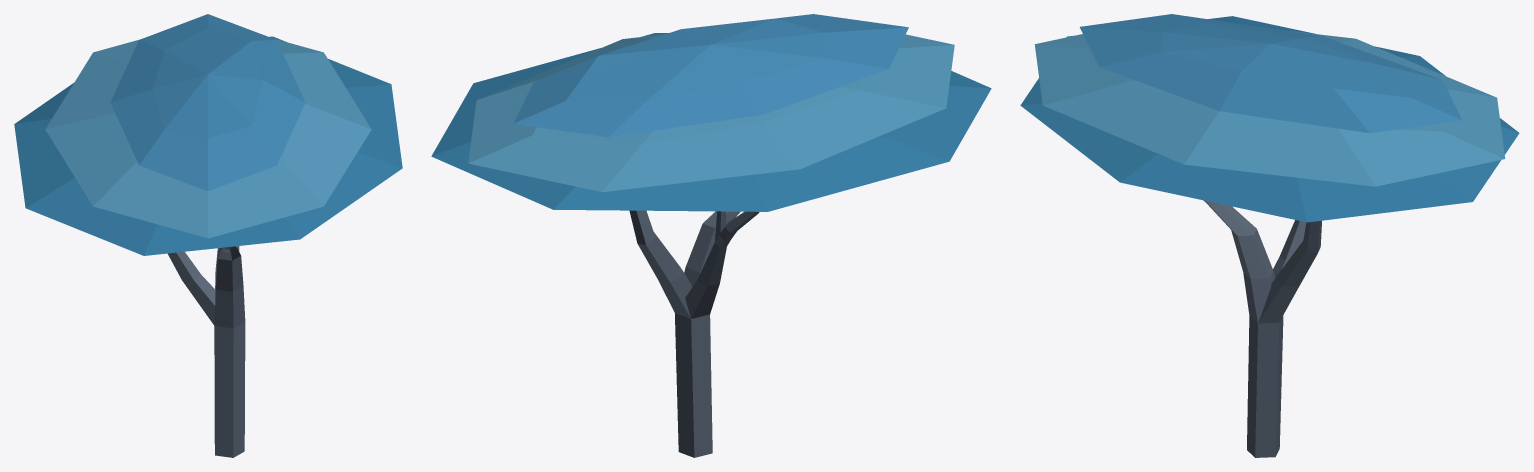
Rendered from alien_tree_textured.glb.
3 renders of one model, left to right at view 1: azimuth 30°, elevation 25°; view 2: azimuth 150°, elevation 25°; view 3: azimuth 270°, elevation 25°, orthographic. The views are drawn at different scales.
Visible parts, largest first — view 1: SP_Tree01; view 2: SP_Tree01; view 3: SP_Tree01.
Boxes of the visible parts, x1,y1,x2,y2 form: SP_Tree01: (14, 14, 402, 457); SP_Tree01: (431, 14, 991, 457); SP_Tree01: (1020, 14, 1519, 457).
Bounding box in the file's own units: 4.29 × 3.87 × 4.39.
1 material, 1 textured.
